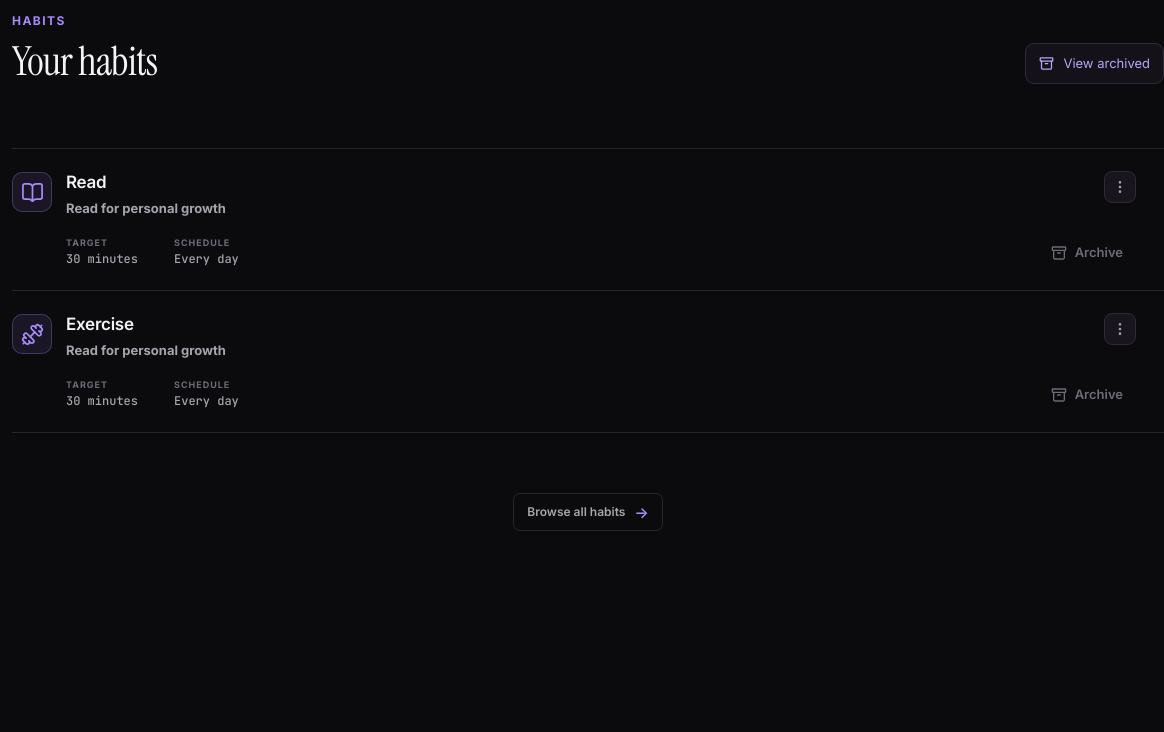
HabitList › reverts the order when reordering fails
Expected: the heading "Read" is shown, [66,172,106,192]
What coordinates should you click on to do the following:
click the button named "Options for"
I would click on:
 (1120, 187)
Its box is [1104,171,1136,203].
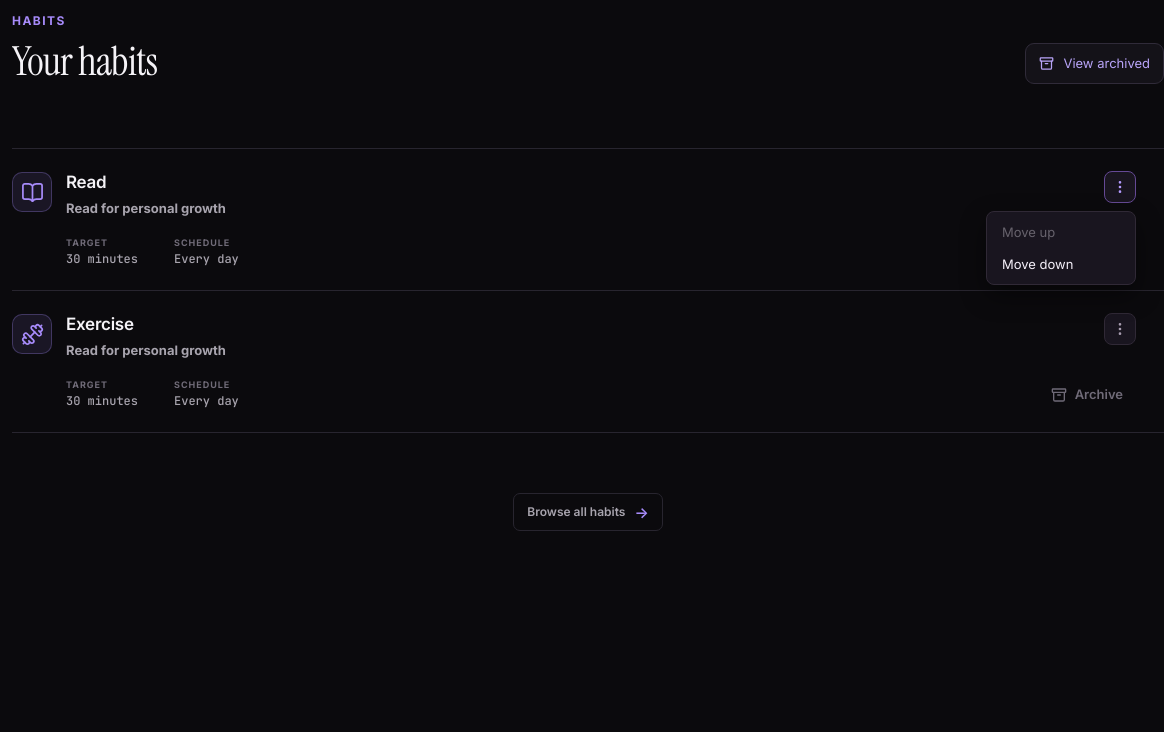
Note: Click "Move down"
What coordinates should you click on to do the following:
click the button "Move down"
I would click on:
 (1061, 264)
Its box is [991,248,1131,280].
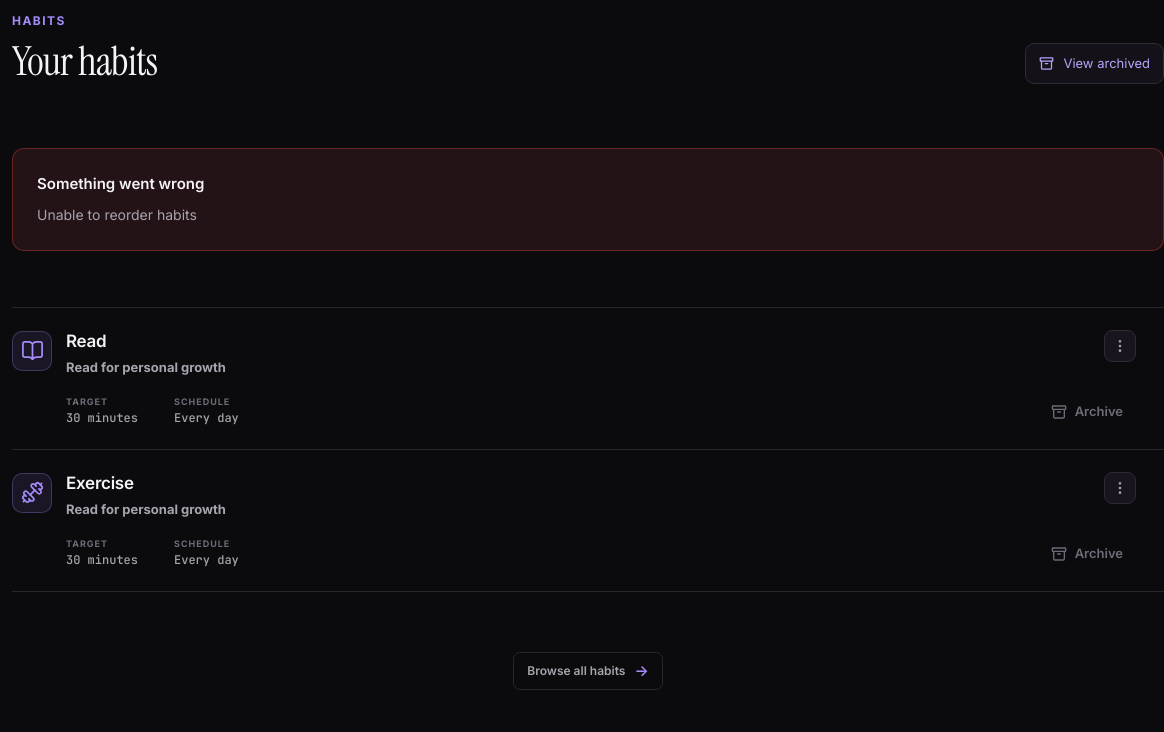
Expected: the heading "Read" is shown, [66,331,106,351]
Expected: the message shows "Unable to reorder habits", [37,206,197,222]
